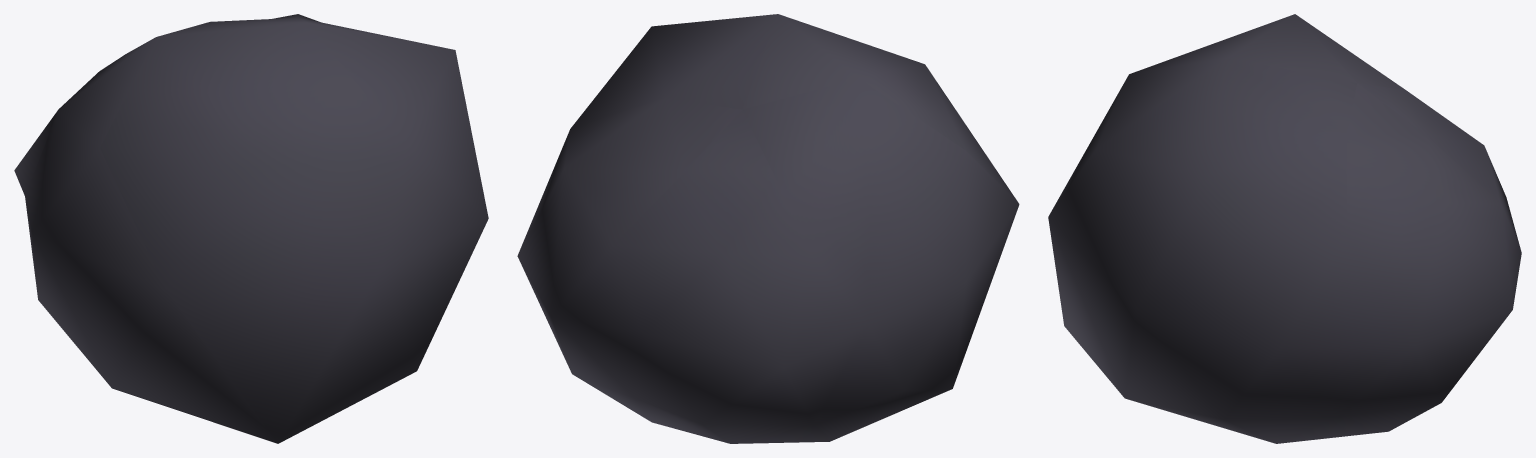
The model's file is Rock3.fbx.
3 views of the same model, side by side, from view 1: azimuth 30°, elevation 25°; view 2: azimuth 150°, elevation 25°; view 3: azimuth 270°, elevation 25° (orthographic). The views are drawn at different scales.
Parts seen in each view (by area): view 1: Rock3; view 2: Rock3; view 3: Rock3.
Part boxes in pixels (bbox=[...]): Rock3: bbox=[14, 14, 488, 443]; Rock3: bbox=[517, 14, 1019, 443]; Rock3: bbox=[1048, 14, 1521, 443].
Size of the model in its own units: 263 by 242 by 271.
